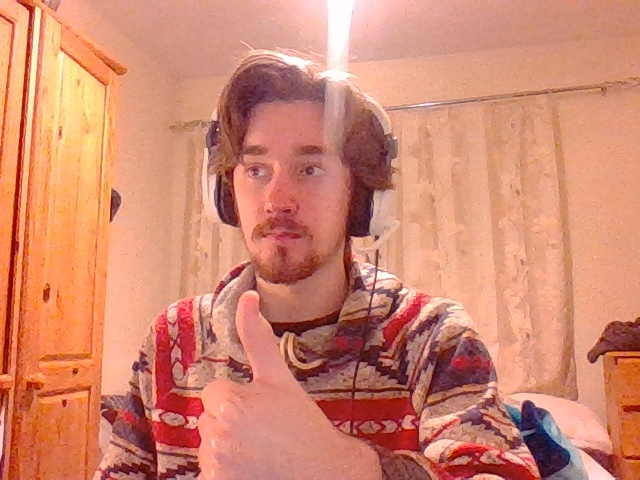good: (199, 291, 326, 480)
